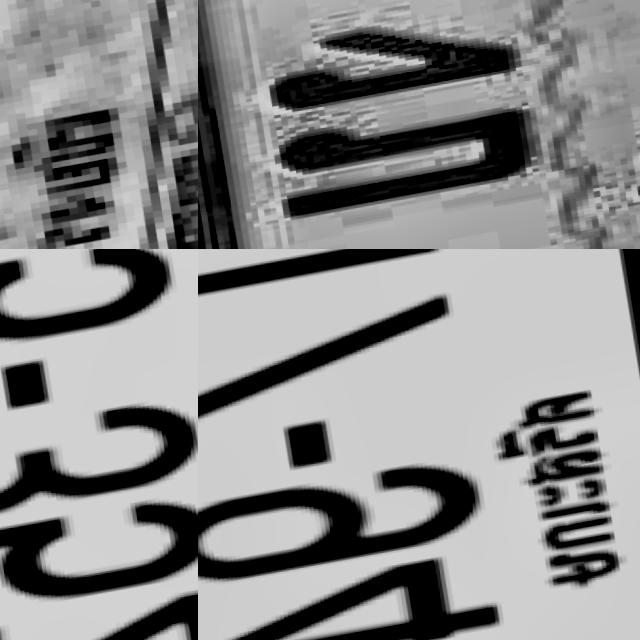license-plate: (198, 249, 640, 640), (198, 0, 640, 249), (0, 249, 198, 640), (0, 0, 198, 249)
